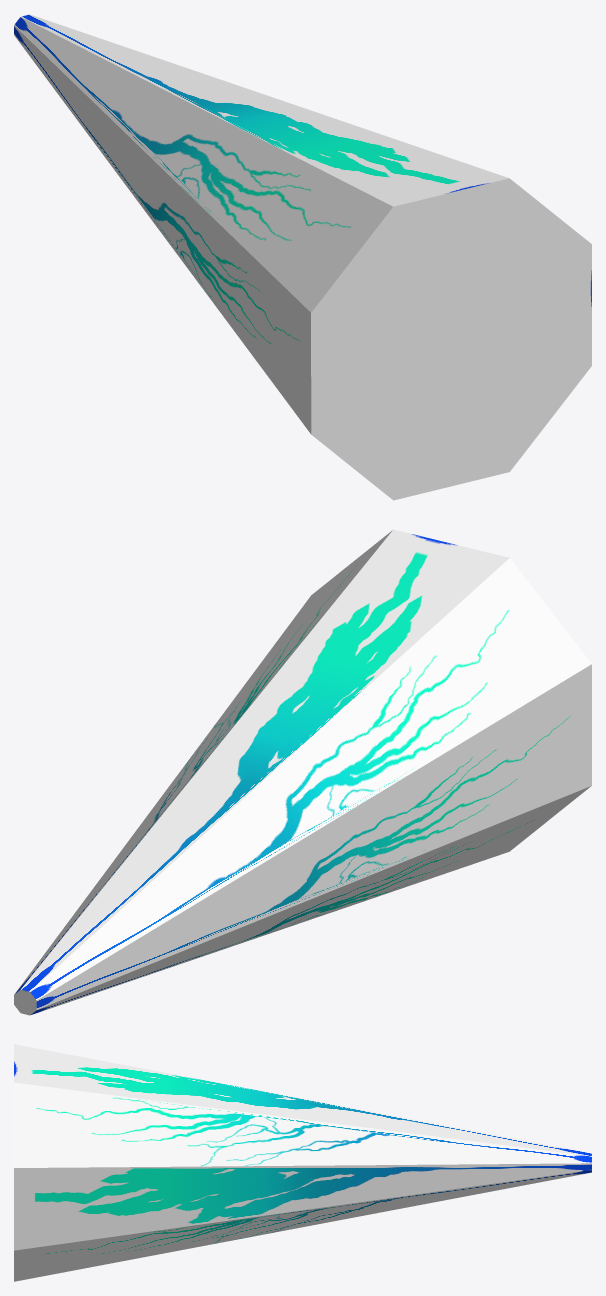
File: octagon.fbx
3 views of the same model, one above another, from view 1: azimuth 30°, elevation 25°; view 2: azimuth 150°, elevation 25°; view 3: azimuth 270°, elevation 25° (orthographic). The views are drawn at different scales.
Parts seen in each view (by area): view 1: pCylinder1; view 2: pCylinder1; view 3: pCylinder1.
Boxes of the visible parts, <box> form: pCylinder1: <box>14,14,591,500</box>; pCylinder1: <box>14,529,591,1015</box>; pCylinder1: <box>14,1044,591,1281</box>.
Bounding box in the file's own units: 3.55 × 3.55 × 9.33.
1 material, 1 textured.
